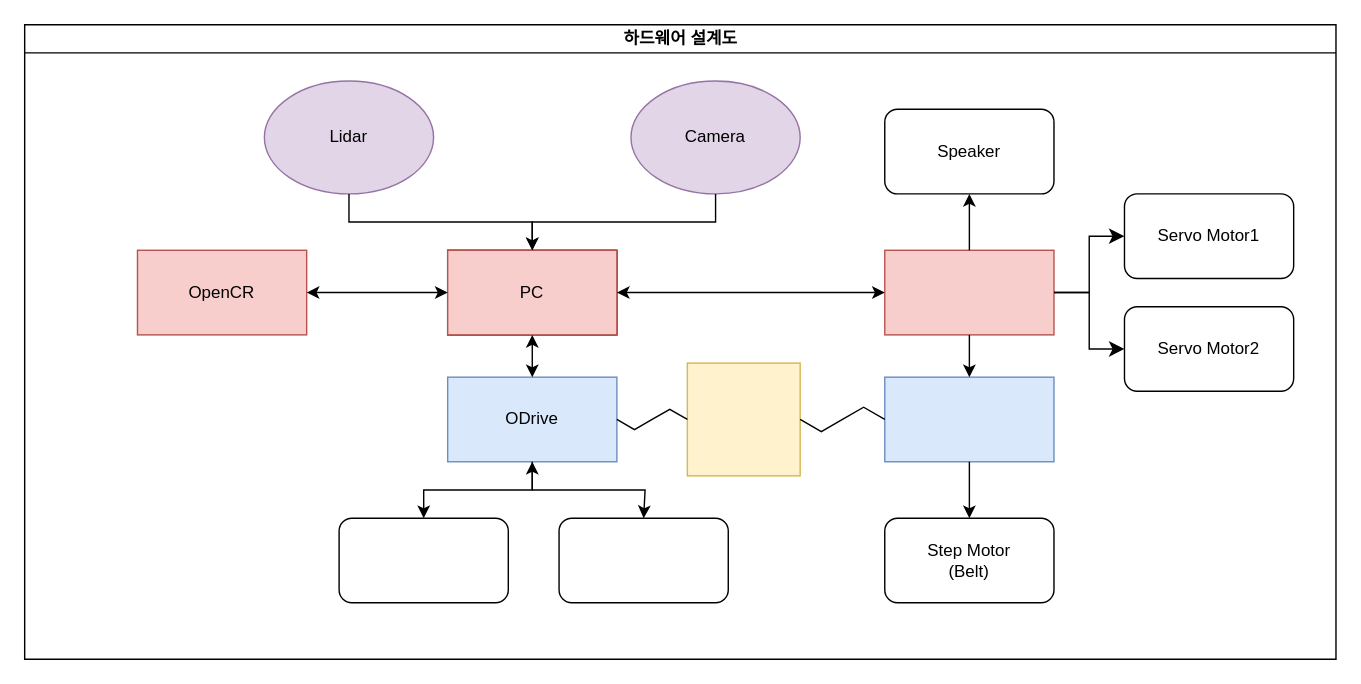
Some shapes in this 1361 by 684 pixel diagram are drawn without their labels. Here are the shapes that lost their labels. From the top down, the centre of each, then its label:
At (968,292): "Arduino Due".
At (743,419): "Battery 24V".
At (968,419): "Motor Drive".
At (423,560): "BLDC Motor Right Wheel".
At (643,560): "BLDC Motor Left Wheel".
